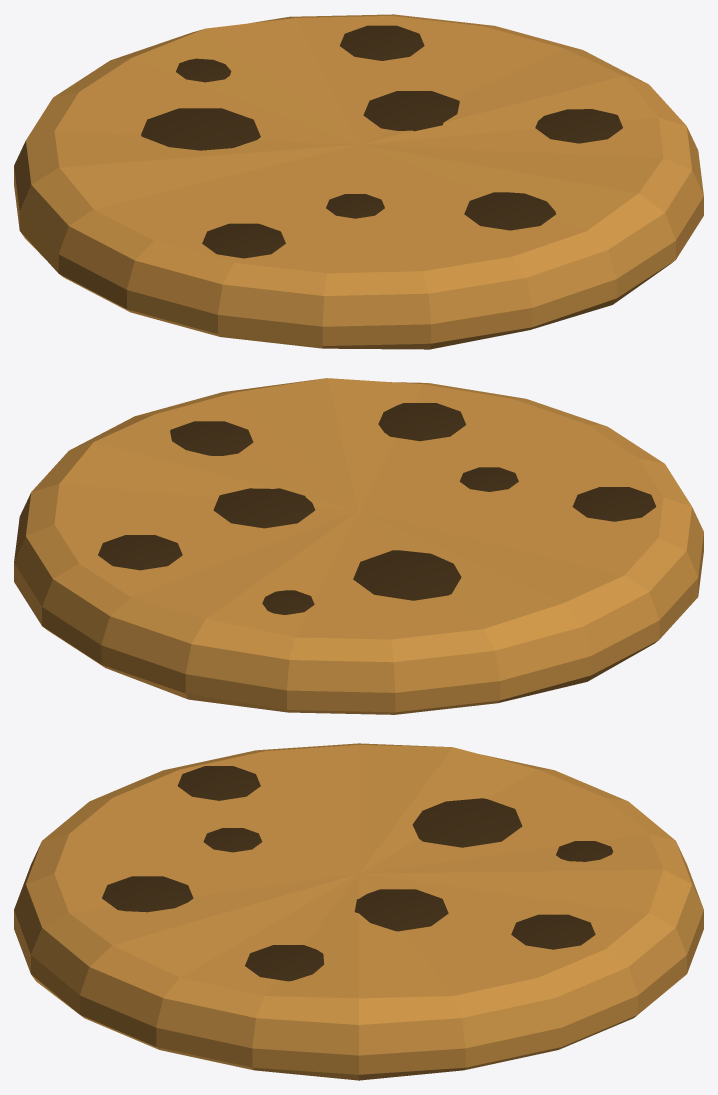
The model's file is cookie_chocchip.fbx.
3 renders of one model, top to bottom at view 1: azimuth 30°, elevation 25°; view 2: azimuth 150°, elevation 25°; view 3: azimuth 270°, elevation 25°, orthographic.
Parts seen in each view (by area): view 1: cookies_chocchip; view 2: cookies_chocchip; view 3: cookies_chocchip.
Boxes of the visible parts, bbox=[...] form: cookies_chocchip: bbox=[14, 14, 703, 349]; cookies_chocchip: bbox=[14, 378, 703, 714]; cookies_chocchip: bbox=[14, 743, 703, 1080].
Size of the model in its own units: 0.02 by 0.00221 by 0.02.
